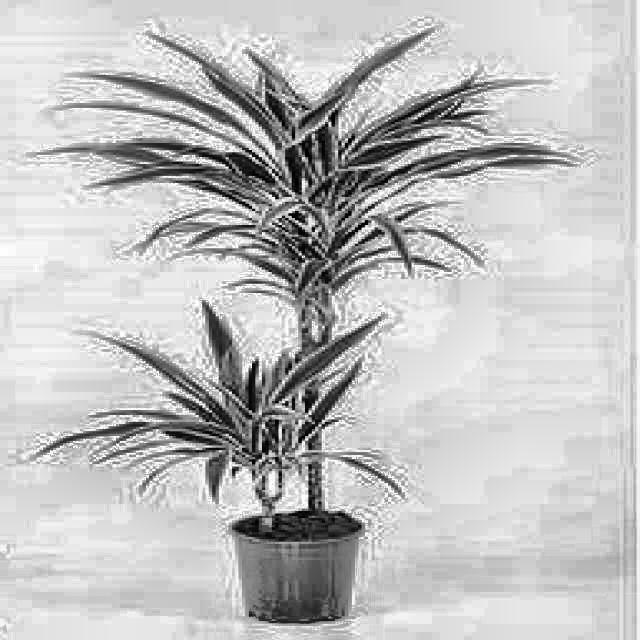plants: (39, 20, 578, 626)
